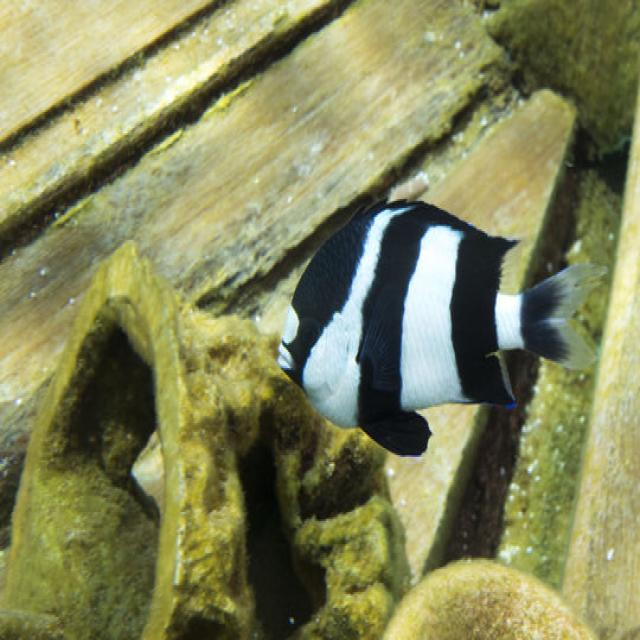ThreeStripedDamselfish: (277, 201, 577, 459)
